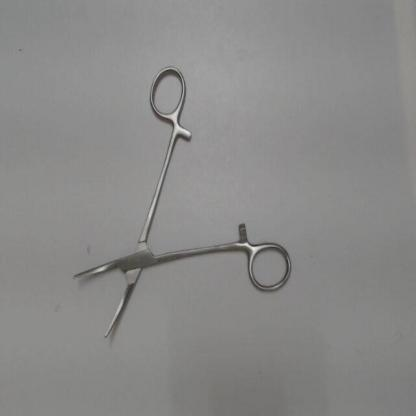Crile Artery Forceps: (66, 59, 297, 347)
